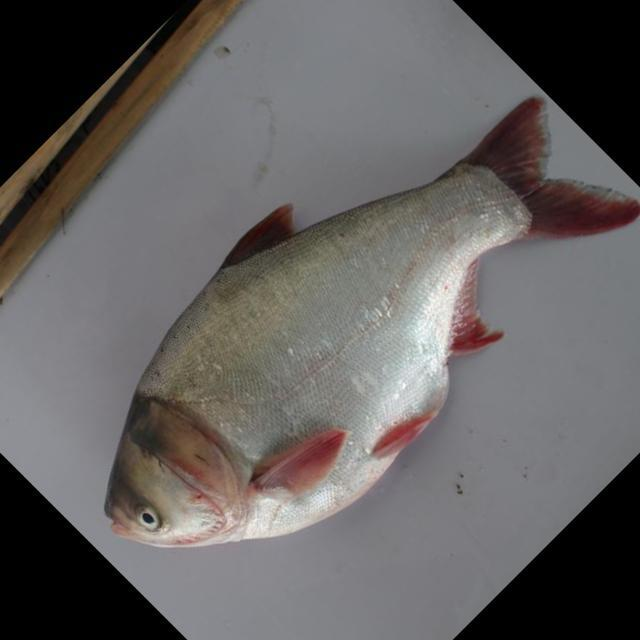SilverCarp: (103, 114, 614, 560)
